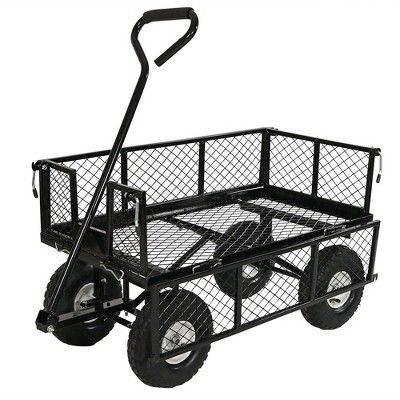Carts: (31, 4, 391, 392)
